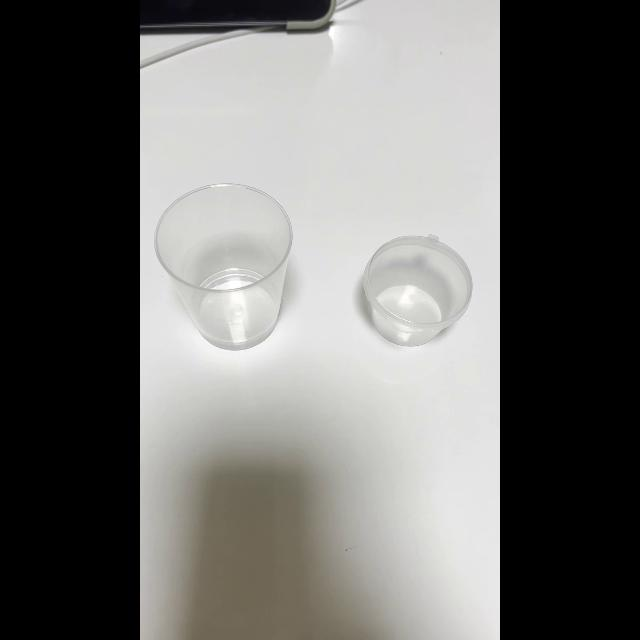clean: (155, 184, 293, 348), (363, 234, 473, 344)
